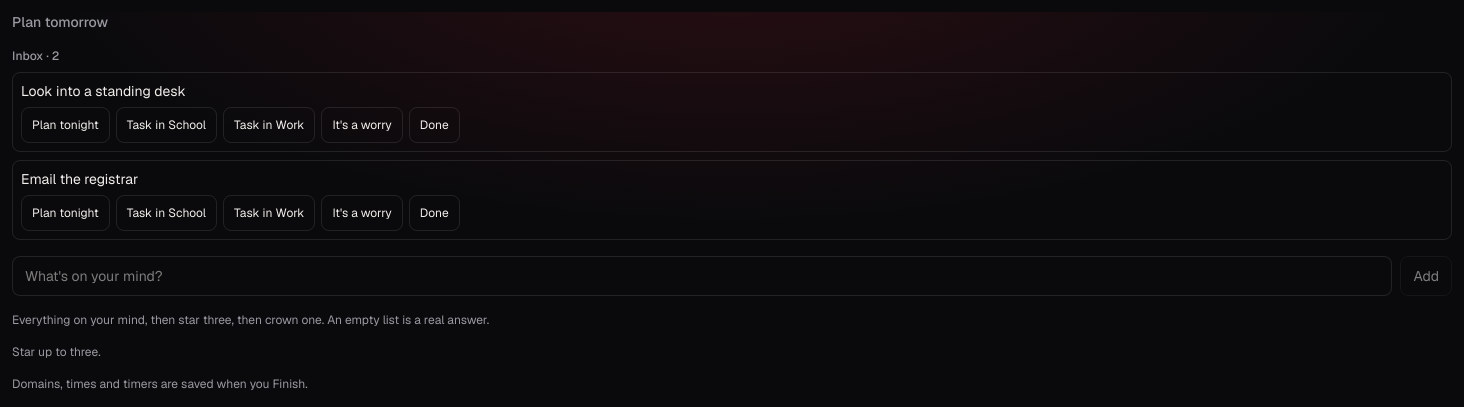
Test: ClosePlanStage — Inbox triage › Plan tonight: the item leaves the Inbox at once, becomes a plan line you can star, and the action gets mode
The image size is (1464, 407).
Click the button with aria-label "Plan tonight: Look into a standing desk" at point(65, 125), box [21, 107, 110, 143]
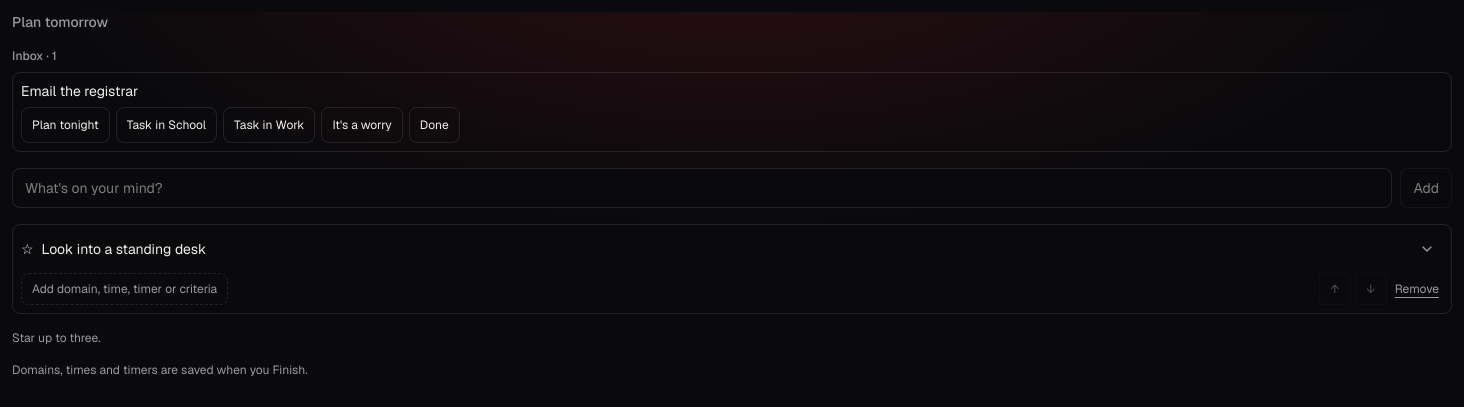
expect the button named "Star Look into a standing desk" is shown: met, box [21, 239, 34, 259]
expect the element with test id "close-inbox" shows "Inbox · 1": met, box [12, 48, 1452, 152]
